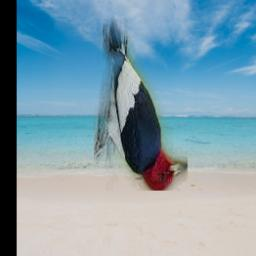Woodpecker: (94, 20, 188, 192)
